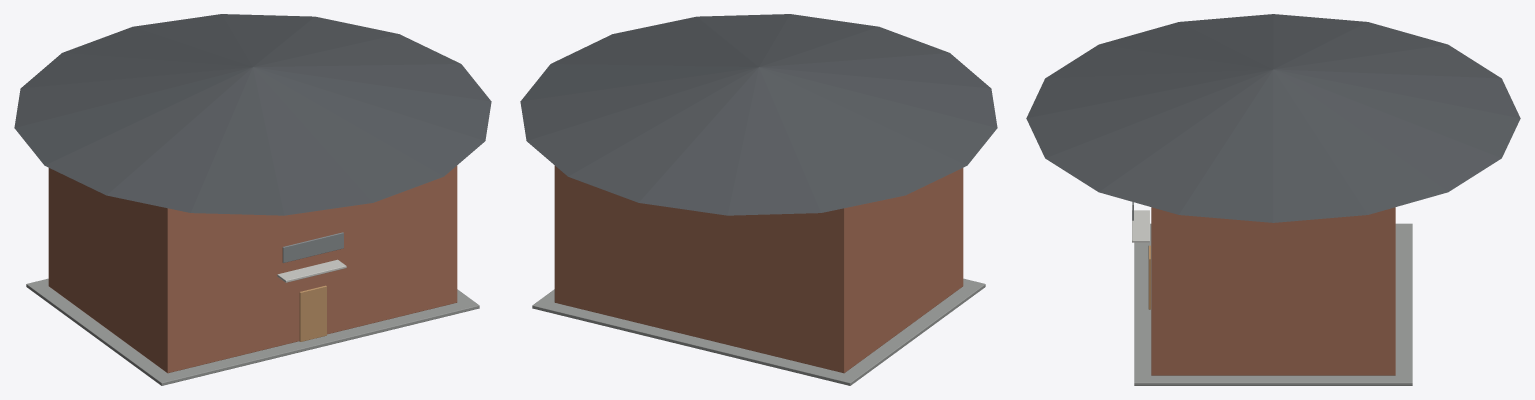
The model's file is Building_Residential_001.glb.
3 renders of one model, left to right at view 1: azimuth 30°, elevation 25°; view 2: azimuth 150°, elevation 25°; view 3: azimuth 270°, elevation 25°, orthographic. The views are drawn at different scales.
Visible parts, largest first — view 1: Building_Residential_001; view 2: Building_Residential_001; view 3: Building_Residential_001.
Part boxes in pixels (<box>): Building_Residential_001: <box>14,14,491,385</box>; Building_Residential_001: <box>520,14,997,385</box>; Building_Residential_001: <box>1026,14,1520,385</box>.
Size of the model in its own units: 21.94 by 11.6 by 21.94.
